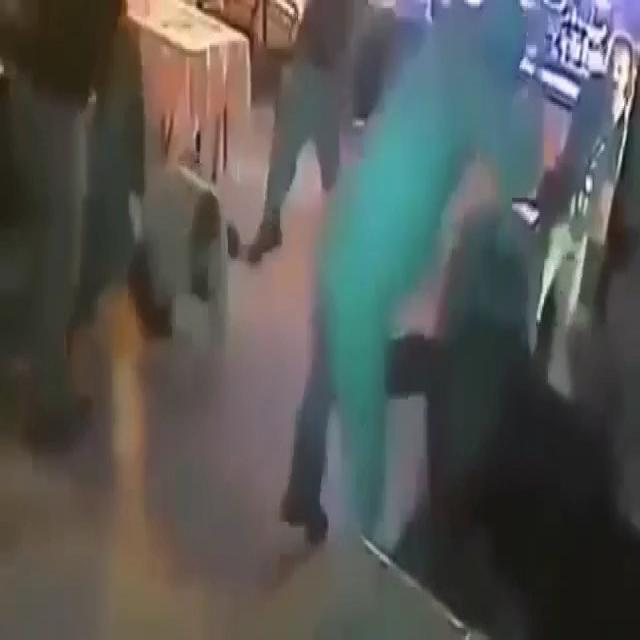fight: (339, 9, 586, 578)
